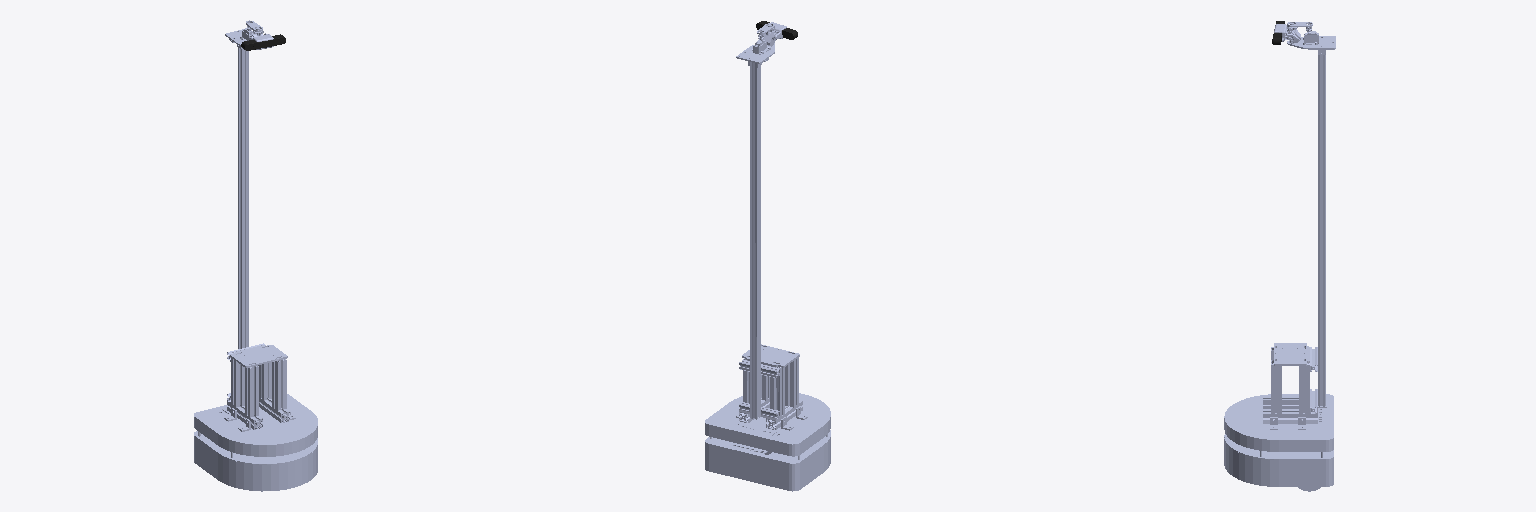
URDF robot description (dashgo):
<?xml version="1.0" encoding="utf-8"?>
<!-- This URDF was automatically created by SolidWorks to URDF Exporter! Originally created by [author] ([email redacted]) 
     Commit Version: 1.6.0-4-g7f85cfe  Build Version: 1.6.7995.38578
     For more information, please see http://wiki.ros.org/sw_urdf_exporter -->
<robot
  name="dashgo">
  <link
    name="Base">
    <inertial>
      <origin
        xyz="7.28752940389825E-05 0.0569098315439797 0.259207232289335"
        rpy="0 0 0" />
      <mass
        value="5.92220977742572" />
      <inertia
        ixx="0.134189556605473"
        ixy="-2.49642917566475E-05"
        ixz="7.32459015732295E-10"
        iyy="0.135866070097009"
        iyz="0.000122787889238702"
        izz="0.0791062934791392" />
    </inertial>
    <visual>
      <origin
        xyz="0 0 0"
        rpy="0 0 0" />
      <geometry>
        <mesh
          filename="package://robot_description/meshes/Dashgo/Base.STL" />
      </geometry>
      <material
        name="">
        <color
          rgba="0.792156862745098 0.819607843137255 0.933333333333333 1" />
      </material>
    </visual>
    <collision>
      <origin
        xyz="0 0 0"
        rpy="0 0 0" />
      <geometry>
        <mesh
          filename="package://robot_description/meshes/Dashgo/Base.STL" />
      </geometry>
    </collision>
  </link>
  <link
    name="Llanta1">
    <inertial>
      <origin
        xyz="4.02455846426619E-16 6.52256026967279E-16 0.0200000000000002"
        rpy="0 0 0" />
      <mass
        value="0.528918539158378" />
      <inertia
        ixx="0.000631308353030454"
        ixy="-1.64320882748444E-36"
        ixz="1.72050413075699E-18"
        iyy="0.000631308353030454"
        iyz="-1.31827511759956E-36"
        izz="0.00112157176228534" />
    </inertial>
    <visual>
      <origin
        xyz="0 0 0"
        rpy="0 0 0" />
      <geometry>
        <mesh
          filename="package://robot_description/meshes/Dashgo/Llanta1.STL" />
      </geometry>
      <material
        name="">
        <color
          rgba="0.792156862745098 0.819607843137255 0.933333333333333 1" />
      </material>
    </visual>
    <collision>
      <origin
        xyz="0 0 0"
        rpy="0 0 0" />
      <geometry>
        <mesh
          filename="package://robot_description/meshes/Dashgo/Llanta1.STL" />
      </geometry>
    </collision>
  </link>
  <joint
    name="Cont1.1Llanta"
    type="continuous">
    <origin
      xyz="0.145999999999999 0.1155 0.0375"
      rpy="1.5707963267949 0 1.5707963267949" />
    <parent
      link="Base" />
    <child
      link="Llanta1" />
    <axis
      xyz="0 0 1" />
  </joint>
  <link
    name="Llanta2">
    <inertial>
      <origin
        xyz="-1.38777878078145E-17 -1.11022302462516E-16 -0.02"
        rpy="0 0 0" />
      <mass
        value="0.528918539158378" />
      <inertia
        ixx="0.000631308353030454"
        ixy="-8.470329472543E-22"
        ixz="-9.10263751530836E-20"
        iyy="0.000631308353030454"
        iyz="4.50857846912387E-20"
        izz="0.00112157176228534" />
    </inertial>
    <visual>
      <origin
        xyz="0 0 0"
        rpy="0 0 0" />
      <geometry>
        <mesh
          filename="package://robot_description/meshes/Dashgo/Llanta2.STL" />
      </geometry>
      <material
        name="">
        <color
          rgba="0.792156862745098 0.819607843137255 0.933333333333333 1" />
      </material>
    </visual>
    <collision>
      <origin
        xyz="0 0 0"
        rpy="0 0 0" />
      <geometry>
        <mesh
          filename="package://robot_description/meshes/Dashgo/Llanta2.STL" />
      </geometry>
    </collision>
  </link>
  <joint
    name="Cont1.2Llanta"
    type="continuous">
    <origin
      xyz="-0.146 0.1155 0.0375"
      rpy="1.5707963267949 0.0209487637131551 1.5707963267949" />
    <parent
      link="Base" />
    <child
      link="Llanta2" />
    <axis
      xyz="0 0 1" />
  </joint>
  <link
    name="Loca1">
    <inertial>
      <origin
        xyz="-1.38777878078145E-17 0.0345546529721542 1.38777878078145E-17"
        rpy="0 0 0" />
      <mass
        value="0.0167352759899297" />
      <inertia
        ixx="7.54150196205056E-06"
        ixy="1.40155850818218E-21"
        ixz="-8.27048938529183E-22"
        iyy="5.85653067123054E-06"
        iyz="-1.78257050125666E-21"
        izz="7.09027556219276E-06" />
    </inertial>
    <visual>
      <origin
        xyz="0 0 0"
        rpy="0 0 0" />
      <geometry>
        <mesh
          filename="package://robot_description/meshes/Dashgo/Loca1.STL" />
      </geometry>
      <material
        name="">
        <color
          rgba="0.792156862745098 0.819607843137255 0.933333333333333 1" />
      </material>
    </visual>
    <collision>
      <origin
        xyz="0 0 0"
        rpy="0 0 0" />
      <geometry>
        <mesh
          filename="package://robot_description/meshes/Dashgo/Loca1.STL" />
      </geometry>
    </collision>
  </link>
  <joint
    name="Cont2.1Loca"
    type="continuous">
    <origin
      xyz="-0.09 -0.0720000000000001 0"
      rpy="1.5707963267949 0 0" />
    <parent
      link="Base" />
    <child
      link="Loca1" />
    <axis
      xyz="0 1 0" />
  </joint>
  <link
    name="LlantaLoca1">
    <inertial>
      <origin
        xyz="-2.77555756156289E-17 -0.00741632050454702 0"
        rpy="0 0 0" />
      <mass
        value="0.0694291976443344" />
      <inertia
        ixx="3.17985725211052E-05"
        ixy="-5.2134949516848E-38"
        ixz="0"
        iyy="1.95153903045283E-05"
        iyz="7.67877008722871E-41"
        izz="1.95153903045283E-05" />
    </inertial>
    <visual>
      <origin
        xyz="0 0 0"
        rpy="0 0 0" />
      <geometry>
        <mesh
          filename="package://robot_description/meshes/Dashgo/LlantaLoca1.STL" />
      </geometry>
      <material
        name="">
        <color
          rgba="0.792156862745098 0.819607843137255 0.933333333333333 1" />
      </material>
    </visual>
    <collision>
      <origin
        xyz="0 0 0"
        rpy="0 0 0" />
      <geometry>
        <mesh
          filename="package://robot_description/meshes/Dashgo/LlantaLoca1.STL" />
      </geometry>
    </collision>
  </link>
  <joint
    name="Cont2.2Llanta"
    type="continuous">
    <origin
      xyz="0 0.01 0"
      rpy="0 0 0" />
    <parent
      link="Loca1" />
    <child
      link="LlantaLoca1" />
    <axis
      xyz="1 0 0" />
  </joint>
  <link
    name="Loca2">
    <inertial>
      <origin
        xyz="-4.16333634234434E-17 0.0345546529721542 5.55111512312578E-17"
        rpy="0 0 0" />
      <mass
        value="0.0167352759899297" />
      <inertia
        ixx="7.54150196205055E-06"
        ixy="3.09430207591605E-21"
        ixz="2.11758236813575E-22"
        iyy="5.85653067123052E-06"
        iyz="4.4410066045179E-22"
        izz="7.09027556219274E-06" />
    </inertial>
    <visual>
      <origin
        xyz="0 0 0"
        rpy="0 0 0" />
      <geometry>
        <mesh
          filename="package://robot_description/meshes/Dashgo/Loca2.STL" />
      </geometry>
      <material
        name="">
        <color
          rgba="0.792156862745098 0.819607843137255 0.933333333333333 1" />
      </material>
    </visual>
    <collision>
      <origin
        xyz="0 0 0"
        rpy="0 0 0" />
      <geometry>
        <mesh
          filename="package://robot_description/meshes/Dashgo/Loca2.STL" />
      </geometry>
    </collision>
  </link>
  <joint
    name="Cont3.1Loca"
    type="continuous">
    <origin
      xyz="0.09 -0.072 0"
      rpy="1.5707963267949 0 0.132004559319761" />
    <parent
      link="Base" />
    <child
      link="Loca2" />
    <axis
      xyz="0 1 0" />
  </joint>
  <link
    name="LlantaLoca2">
    <inertial>
      <origin
        xyz="-1.72084568816899E-15 -0.00469061857919632 -0.00574455456677565"
        rpy="0 0 0" />
      <mass
        value="0.0694291976443344" />
      <inertia
        ixx="3.17985725211052E-05"
        ixy="1.6940658945086E-21"
        ixz="-2.22346148654254E-21"
        iyy="1.95153903045283E-05"
        iyz="2.5410988417629E-21"
        izz="1.95153903045283E-05" />
    </inertial>
    <visual>
      <origin
        xyz="0 0 0"
        rpy="0 0 0" />
      <geometry>
        <mesh
          filename="package://robot_description/meshes/Dashgo/LlantaLoca2.STL" />
      </geometry>
      <material
        name="">
        <color
          rgba="0.792156862745098 0.819607843137255 0.933333333333333 1" />
      </material>
    </visual>
    <collision>
      <origin
        xyz="0 0 0"
        rpy="0 0 0" />
      <geometry>
        <mesh
          filename="package://robot_description/meshes/Dashgo/LlantaLoca2.STL" />
      </geometry>
    </collision>
  </link>
  <joint
    name="Cont3.2Llanta"
    type="continuous">
    <origin
      xyz="0 0.01 0"
      rpy="-0.886055251315474 0 0" />
    <parent
      link="Loca2" />
    <child
      link="LlantaLoca2" />
    <axis
      xyz="1 0 0" />
  </joint>
  <link
    name="Lidar">
    <inertial>
      <origin
        xyz="-9.49517221724887E-50 0.0125 -1.38777878078145E-17"
        rpy="0 0 0" />
      <mass
        value="0.0962112750161874" />
      <inertia
        ixx="3.44757068808005E-05"
        ixy="8.13422838622583E-38"
        ixz="1.3254524700622E-52"
        iyy="5.89294059474148E-05"
        iyz="-6.00991536754997E-37"
        izz="3.44757068808005E-05" />
    </inertial>
    <visual>
      <origin
        xyz="0 0 0"
        rpy="0 0 0" />
      <geometry>
        <mesh
          filename="package://robot_description/meshes/Dashgo/Lidar.STL" />
      </geometry>
      <material
        name="">
        <color
          rgba="0.792156862745098 0.819607843137255 0.933333333333333 1" />
      </material>
    </visual>
    <collision>
      <origin
        xyz="0 0 0"
        rpy="0 0 0" />
      <geometry>
        <mesh
          filename="package://robot_description/meshes/Dashgo/Lidar.STL" />
      </geometry>
    </collision>
  </link>
  <joint
    name="Cont4.1Lidar"
    type="fixed">
    <origin
      xyz="0 -0.11 0.12"
      rpy="1.5707963267949 0 0" />
    <parent
      link="Base" />
    <child
      link="Lidar" />
    <axis
      xyz="0 1 0" />
  </joint>
  <link
    name="RevCam1">
    <inertial>
      <origin
        xyz="-0.00218640113558175 0.0383778465870377 -0.00515828443968223"
        rpy="0 0 0" />
      <mass
        value="0.080717320175421" />
      <inertia
        ixx="2.37796512993044E-05"
        ixy="8.55530391588442E-07"
        ixz="-2.49698267928059E-07"
        iyy="1.83589770932125E-05"
        iyz="-4.19202714077007E-06"
        izz="2.27836705307719E-05" />
    </inertial>
    <visual>
      <origin
        xyz="0 0 0"
        rpy="0 0 0" />
      <geometry>
        <mesh
          filename="package://robot_description/meshes/Dashgo/RevCam1.STL" />
      </geometry>
      <material
        name="">
        <color
          rgba="0.792156862745098 0.819607843137255 0.933333333333333 1" />
      </material>
    </visual>
    <collision>
      <origin
        xyz="0 0 0"
        rpy="0 0 0" />
      <geometry>
        <mesh
          filename="package://robot_description/meshes/Dashgo/RevCam1.STL" />
      </geometry>
    </collision>
  </link>
  <joint
    name="Rev1Cam"
    type="continuous">
    <origin
      xyz="0.001 0.0505 1.745"
      rpy="1.5708 0 0.034703" />
    <parent
      link="Base" />
    <child
      link="RevCam1" />
    <axis
      xyz="0 1 0" />
    <limit
      lower="0.5236"
      upper="-0.5236"
      effort="0"
      velocity="0" />
  </joint>
  <link
    name="RevCam2">
    <inertial>
      <origin
        xyz="-0.0039179304343604 -0.0102932368661917 0.0320850186207662"
        rpy="0 0 0" />
      <mass
        value="0.0649807233686397" />
      <inertia
        ixx="2.60101323603901E-05"
        ixy="-1.98669220487654E-07"
        ixz="-5.07308429498082E-06"
        iyy="4.1839084740969E-05"
        iyz="3.16753039765723E-07"
        izz="3.84670102617887E-05" />
    </inertial>
    <visual>
      <origin
        xyz="0 0 0"
        rpy="0 0 0" />
      <geometry>
        <mesh
          filename="package://robot_description/meshes/Dashgo/RevCam2.STL" />
      </geometry>
      <material
        name="">
        <color
          rgba="0.792156862745098 0.819607843137255 0.933333333333333 1" />
      </material>
    </visual>
    <collision>
      <origin
        xyz="0 0 0"
        rpy="0 0 0" />
      <geometry>
        <mesh
          filename="package://robot_description/meshes/Dashgo/RevCam2.STL" />
      </geometry>
    </collision>
  </link>
  <joint
    name="Rev2Cam"
    type="continuous">
    <origin
      xyz="0 0.05 0"
      rpy="-0.12119923501911 -0.000974083686339191 -0.0160540649488372" />
    <parent
      link="RevCam1" />
    <child
      link="RevCam2" />
    <axis
      xyz="0.991299708192299 0 0.131624042400552" />
    <limit
      lower="0.5236"
      upper="-0.5236"
      effort="0"
      velocity="0" />
  </joint>
  <link
    name="Cam">
    <inertial>
      <origin
        xyz="2.70839394232595E-06 0.0154840832193527 0.0423792552563691"
        rpy="0 0 0" />
      <mass
        value="0.152258268041015" />
      <inertia
        ixx="2.28182703915157E-05"
        ixy="-2.5626085953302E-09"
        ixz="-6.38822957916521E-09"
        iyy="0.000372324879577432"
        iyz="-3.15065570916892E-08"
        izz="0.000374741837893712" />
    </inertial>
    <visual>
      <origin
        xyz="0 0 0"
        rpy="0 0 0" />
      <geometry>
        <mesh
          filename="package://robot_description/meshes/Dashgo/Cam.STL" />
      </geometry>
      <material
        name="">
        <color
          rgba="0.176470588235294 0.176470588235294 0.176470588235294 1" />
      </material>
    </visual>
    <collision>
      <origin
        xyz="0 0 0"
        rpy="0 0 0" />
      <geometry>
        <mesh
          filename="package://robot_description/meshes/Dashgo/Cam.STL" />
      </geometry>
    </collision>
  </link>
  <joint
    name="Fix1Cam"
    type="fixed">
    <origin
      xyz="-0.00321508643507233 -0.0539823818454634 0.0300733117769173"
      rpy="1.4793695539324 0.132007098338006 3.14159265358979" />
    <parent
      link="RevCam2" />
    <child
      link="Cam" />
    <axis
      xyz="0 0 0" />
  </joint>
</robot>

--- Facts derived from the render (not from the file) ---
Views: 3 orthographic renders of the robot side by side, from view 1: azimuth 30°, elevation 25°; view 2: azimuth 150°, elevation 25°; view 3: azimuth 270°, elevation 25°.
Robot: dashgo — 11 links, 10 joints (8 continuous, 2 fixed); root link Base; default pose: every joint at zero.
Visible links, largest first — view 1: Base; view 2: Base; view 3: Base.
Link boxes in pixels (<box>): Base: <box>194,20,317,491</box>; Base: <box>705,23,830,491</box>; Base: <box>1224,22,1335,486</box>.
Bounding box of the posed robot: 0.41 × 0.419 × 1.86 m (x, y, z).
11 mesh visuals loaded from 11 distinct referenced files (11 binary STL).